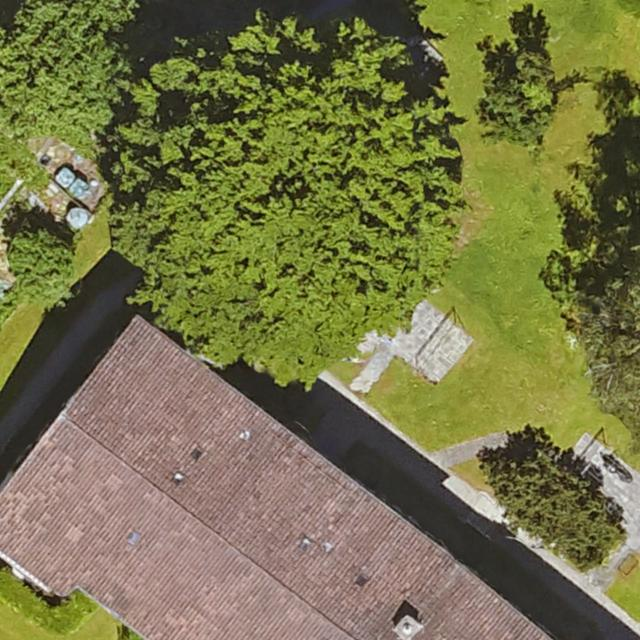tree: (112, 18, 457, 370), (1, 1, 135, 143), (497, 464, 621, 566), (576, 236, 640, 432), (480, 51, 554, 146), (7, 229, 73, 299)
